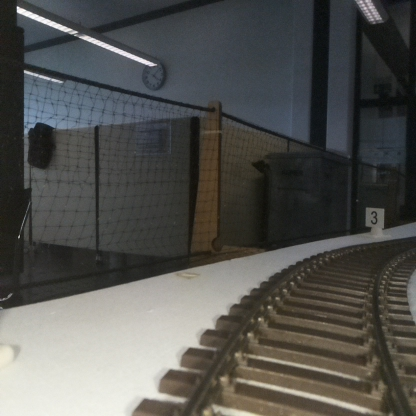white-stop-3: (365, 208, 384, 238)
